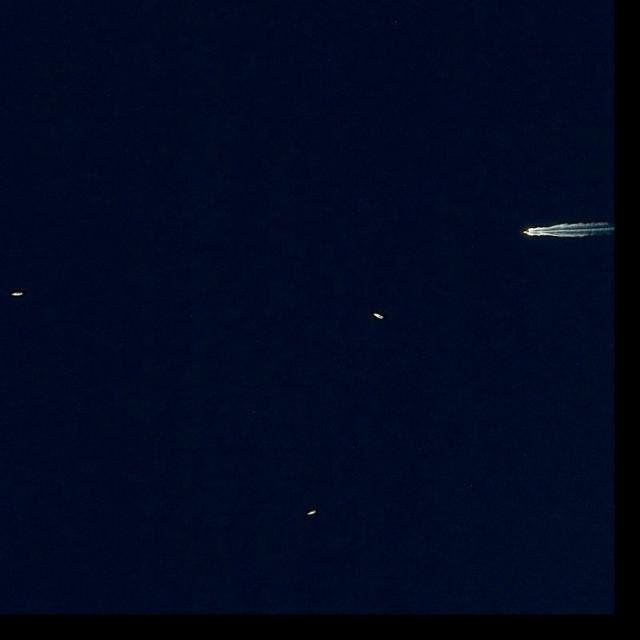ship: (372, 311, 385, 321), (306, 509, 317, 517), (11, 292, 23, 297), (522, 230, 533, 234)
